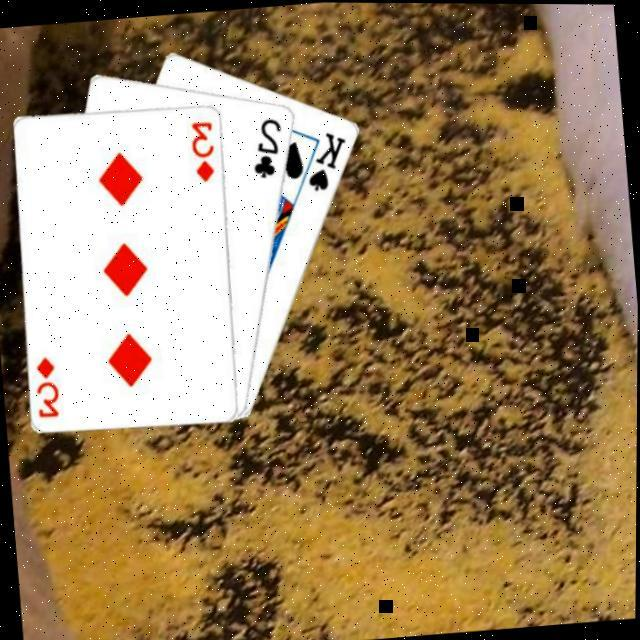2C: (247, 111, 289, 179)
3D: (31, 350, 66, 418), (187, 114, 221, 182)
KS: (301, 125, 354, 192)
